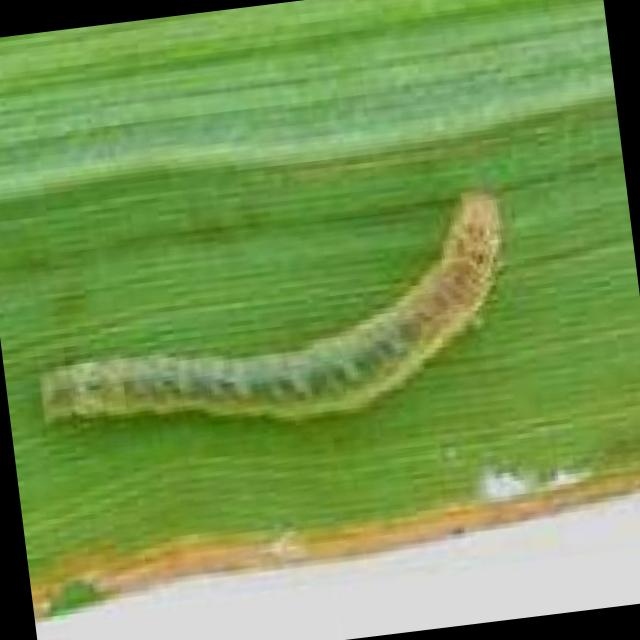leaf-folder: (18, 158, 555, 466)
